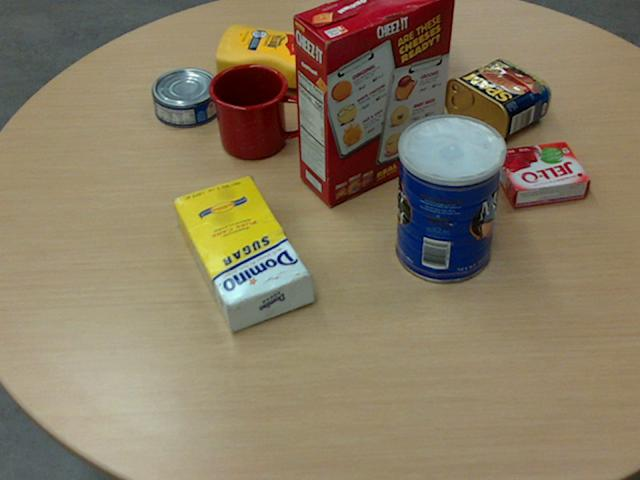cracker_box: (292, 0, 455, 204)
gelatin_box: (493, 139, 589, 205)
large_marker: (377, 23, 395, 113)
master_chef_can: (395, 114, 504, 283)
mug: (207, 63, 308, 158)
mustard_bottle: (215, 23, 367, 88)
potted_meat_can: (443, 58, 549, 143)
sugar_box: (170, 174, 312, 332)
tomato_soup_can: (391, 0, 445, 77)
tuna_fish_can: (150, 66, 220, 126)
